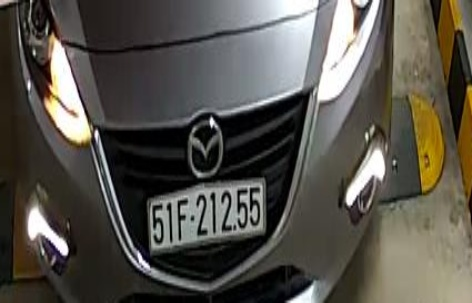plate: (136, 177, 276, 252)
